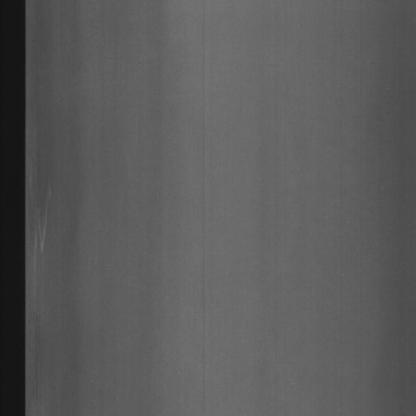silk_spot: (27, 154, 57, 280)
